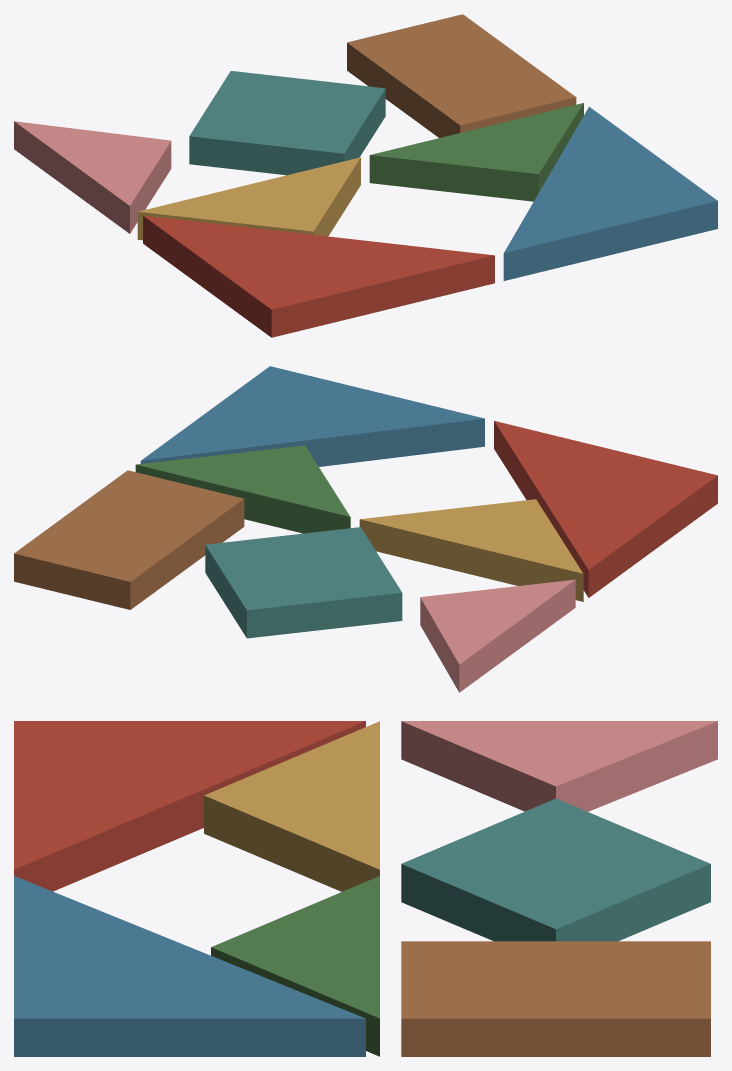
Rendered from wp-tangram-en-volume.glb.
3 views of the same model, one above another, from view 1: azimuth 30°, elevation 25°; view 2: azimuth 150°, elevation 25°; view 3: azimuth 270°, elevation 25° (orthographic). The views are drawn at different scales.
Visible parts, largest first — view 1: wp-tangram-en-volume; view 2: wp-tangram-en-volume; view 3: wp-tangram-en-volume.
Part boxes in pixels (<box>): wp-tangram-en-volume: <box>14,14,717,337</box>; wp-tangram-en-volume: <box>14,366,717,692</box>; wp-tangram-en-volume: <box>14,721,717,1056</box>.
Bounding box in the file's own units: 0.5 × 0.03 × 0.5.
